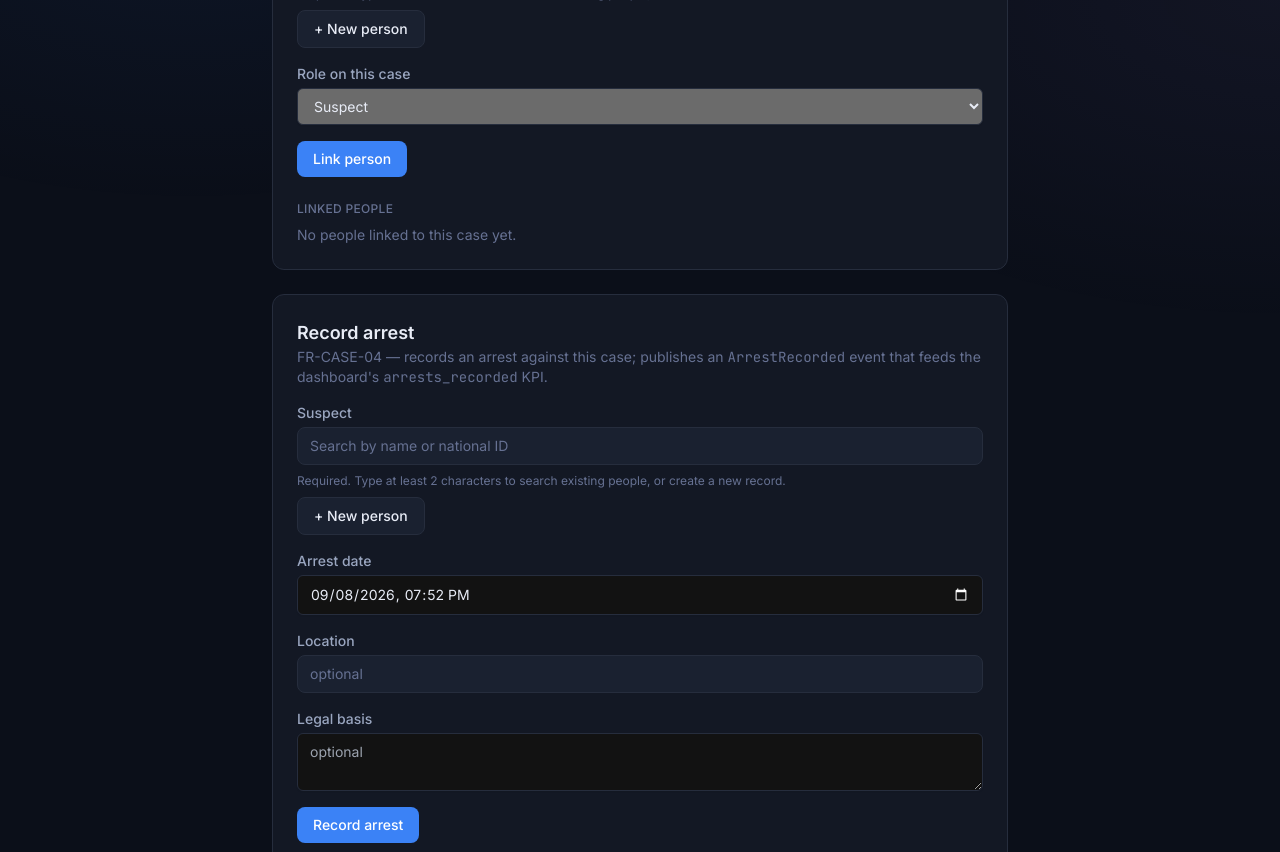
Test case: CaseDetailPage › record arrest › POSTs officer_id from the token plus the form fields, and adds the result to the list
This screenshot has width=1280, height=852.
(page scrolled)
Type "Kante" into the field labelled "Suspect" at (640,446), box [297,427,983,465]
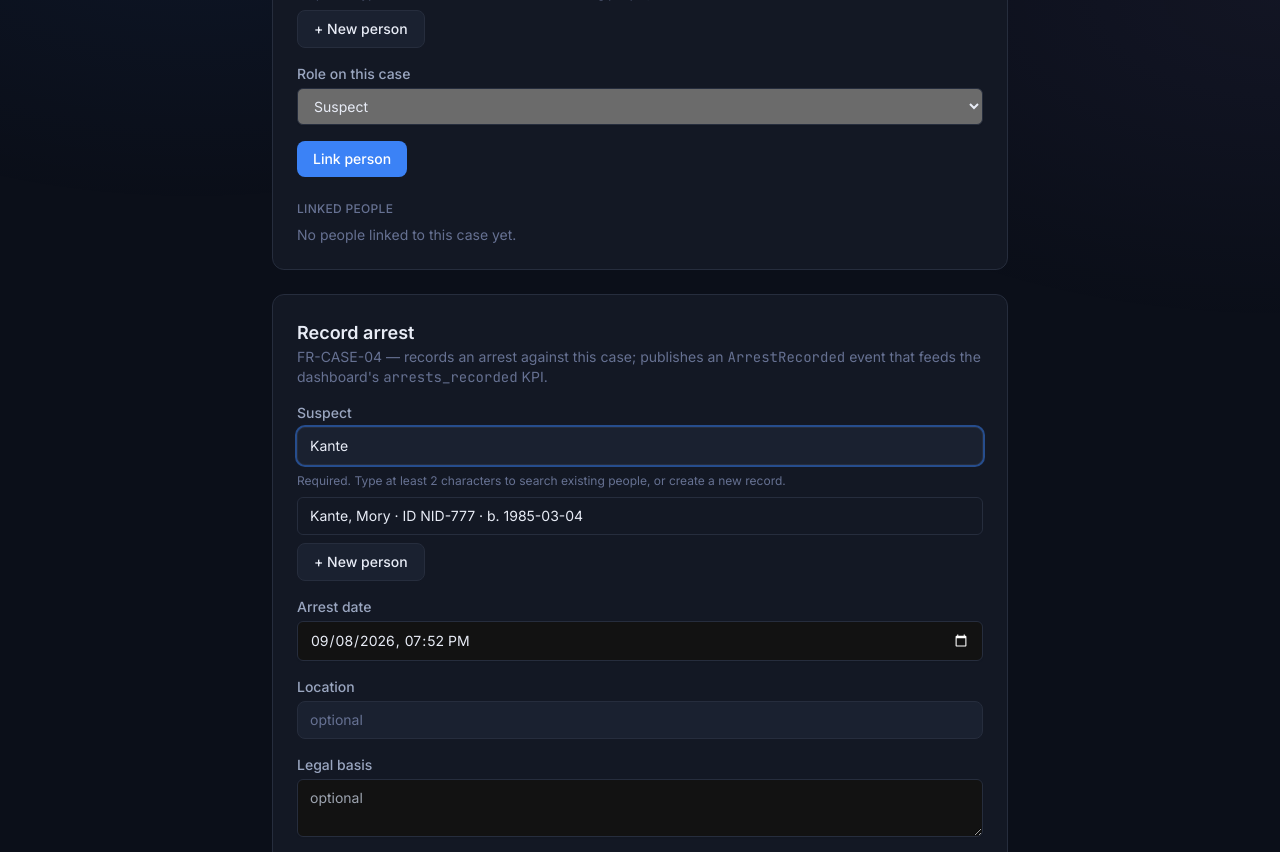
Click the button "Kante, Mory · ID NID-777 · b. 1985-03-04" at (447,516), box [298,498,982,534]
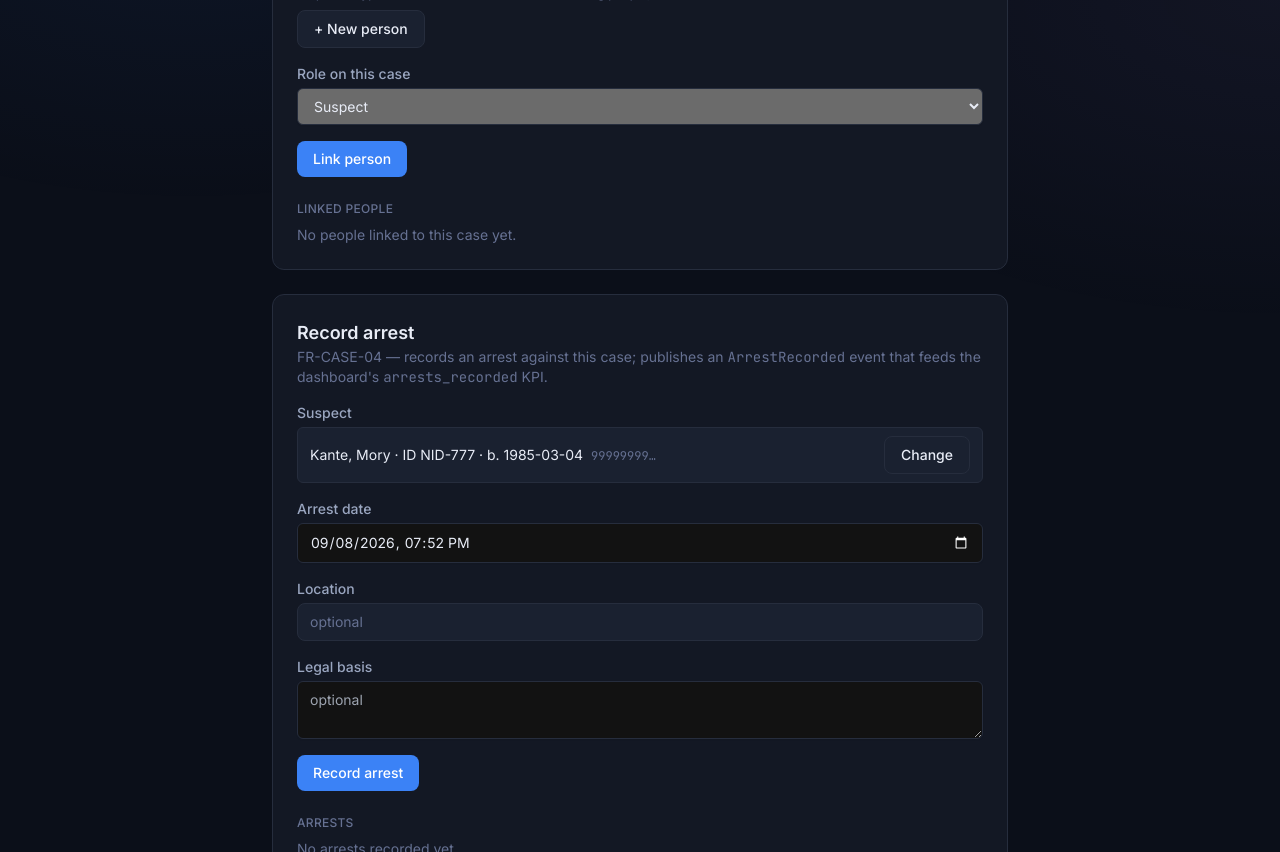
Type "Central Market" into the field labelled "Location" at (640,622), box [297,603,983,641]
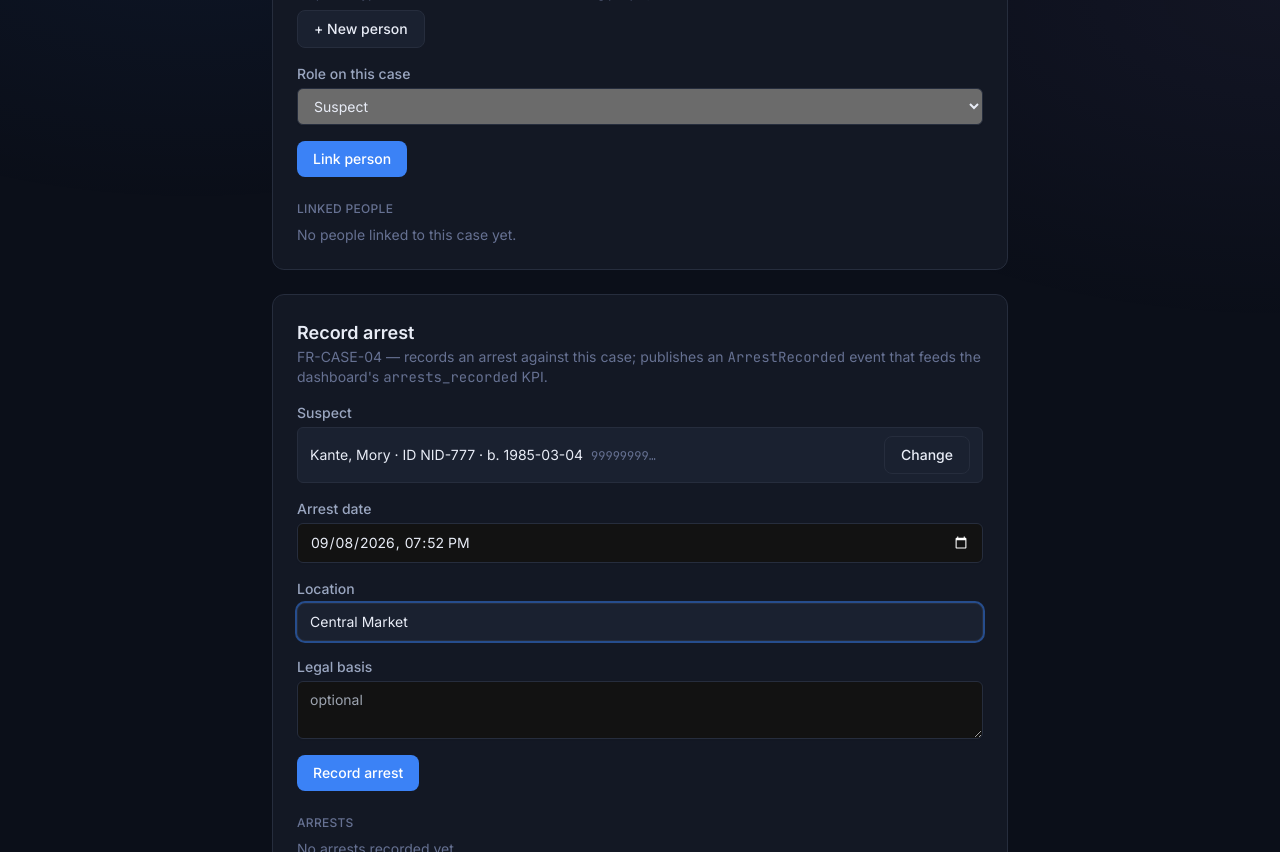
Type "caught in the act" into the text box labelled "Legal basis" at (640,710), box [297,681,983,739]
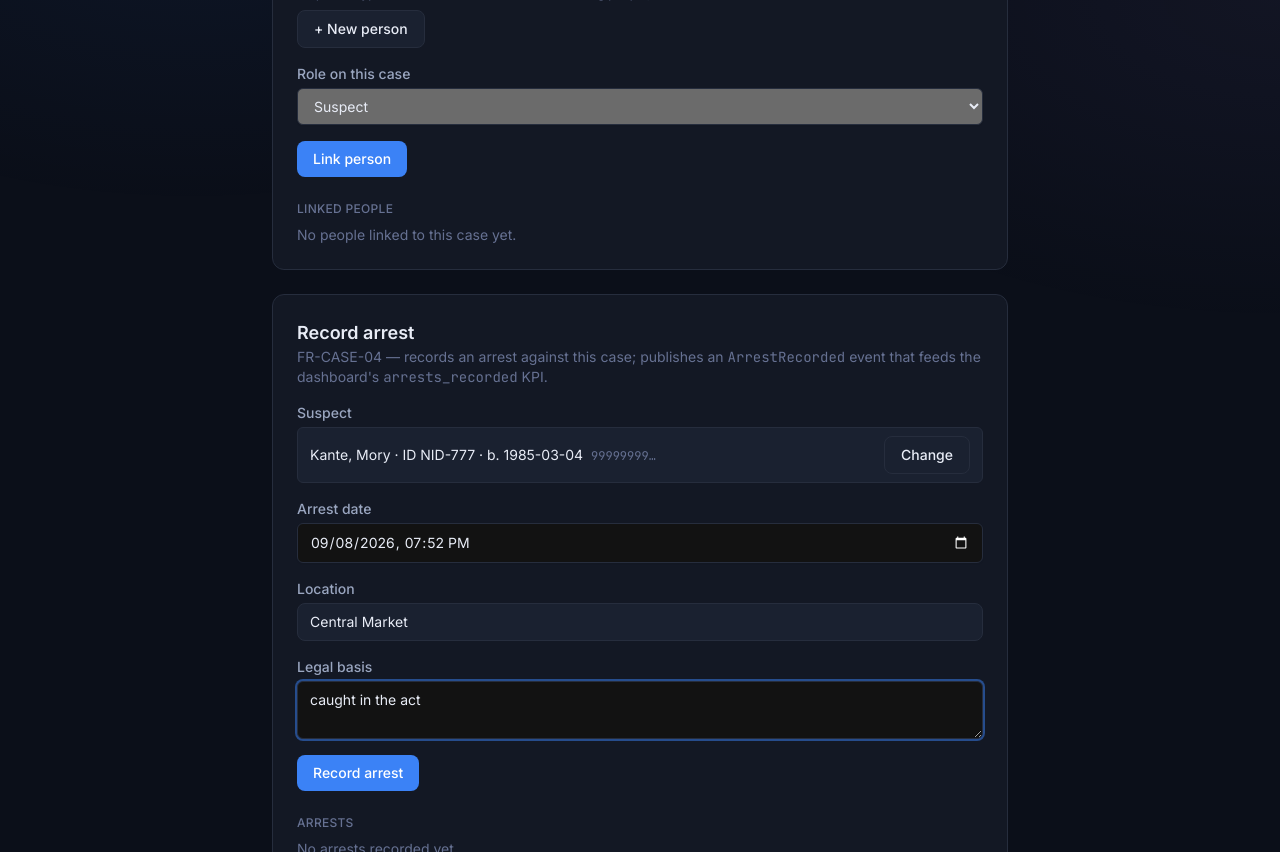
Click the button "Record arrest" at (358,773), box [297,755,419,791]
(page scrolled)
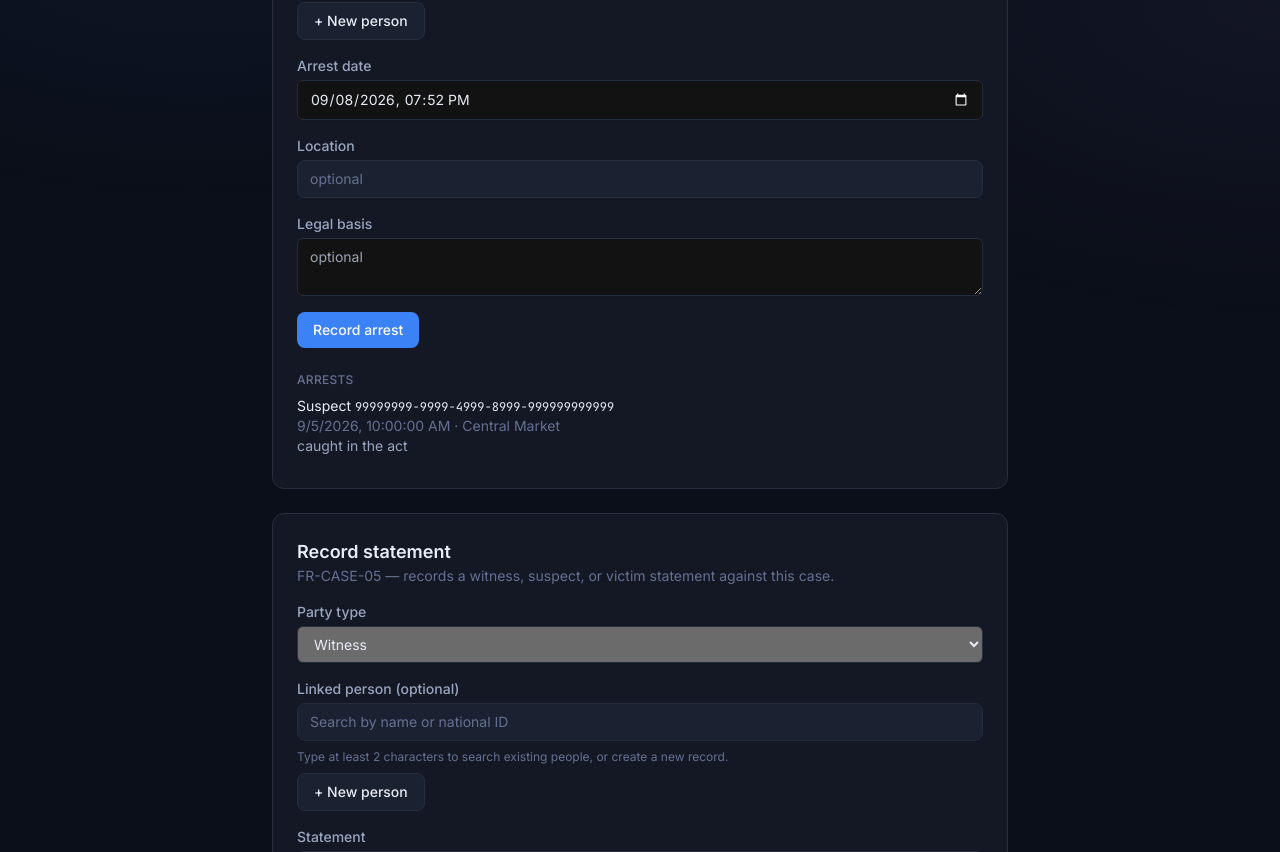
Check: the text "caught in the act" is shown, box [297,437,408,454]
Check: the text "99999999-9999-4999-8999-999999999999" is shown once, box [355,399,614,415]
